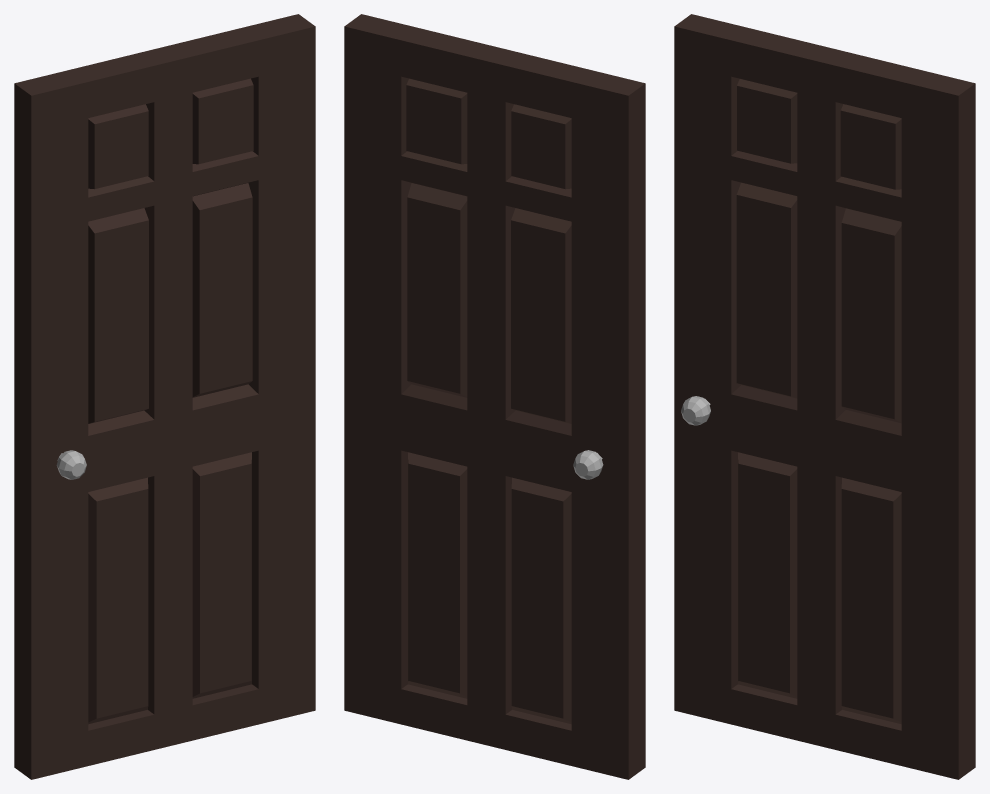
Rendered from interior_door.fbx.
3 views of the same model, side by side, from view 1: azimuth 30°, elevation 25°; view 2: azimuth 150°, elevation 25°; view 3: azimuth 330°, elevation 25° (orthographic).
Parts seen in each view (by area): view 1: pCube21, pSphere4; view 2: pCube21, pSphere3; view 3: pCube21, pSphere4.
Boxes of the visible parts, box(x1,y1,x2,y2) form: pCube21: box(14, 14, 315, 779); pSphere4: box(56, 450, 86, 479); pCube21: box(344, 14, 645, 779); pSphere3: box(573, 450, 603, 479); pCube21: box(674, 14, 975, 779); pSphere4: box(681, 396, 710, 425).
Size of the model in its own units: 0.8941 by 2.06 by 0.2657.
